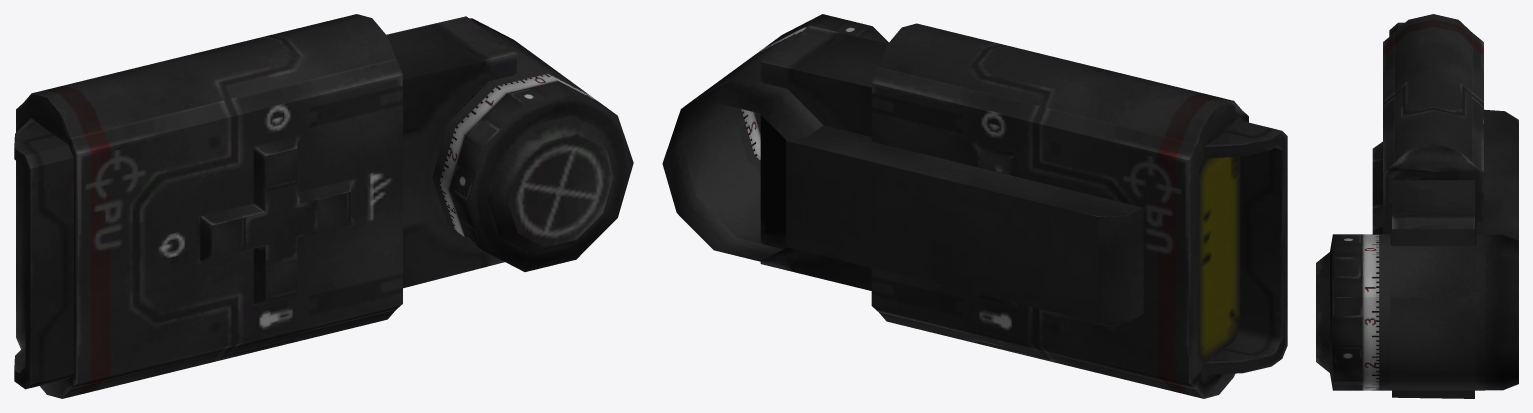
File: t6_attach_bcpu_world_LOD0.obj
The picture shows the model from 3 angles, left to right: view 1: azimuth 30°, elevation 25°; view 2: azimuth 150°, elevation 25°; view 3: azimuth 270°, elevation 25°; orthographic projection. The views are drawn at different scales.
Visible parts, largest first — view 1: mtl_t6_attach_bcpu; view 2: mtl_t6_attach_bcpu; view 3: mtl_t6_attach_bcpu.
Part boxes in pixels (<box>): mtl_t6_attach_bcpu: <box>14,14,633,398</box>; mtl_t6_attach_bcpu: <box>662,14,1287,398</box>; mtl_t6_attach_bcpu: <box>1316,14,1518,398</box>.
Size of the model in its own units: 10.09 by 5.04 by 3.81.
